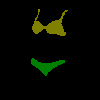mutande: (31, 57, 65, 76)
reggiseno: (32, 9, 68, 36)
